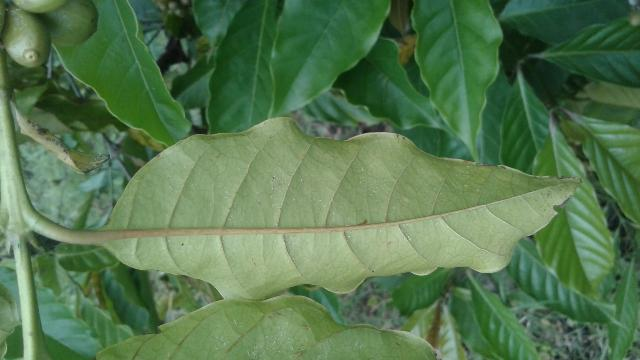healthy: (98, 110, 596, 302)
